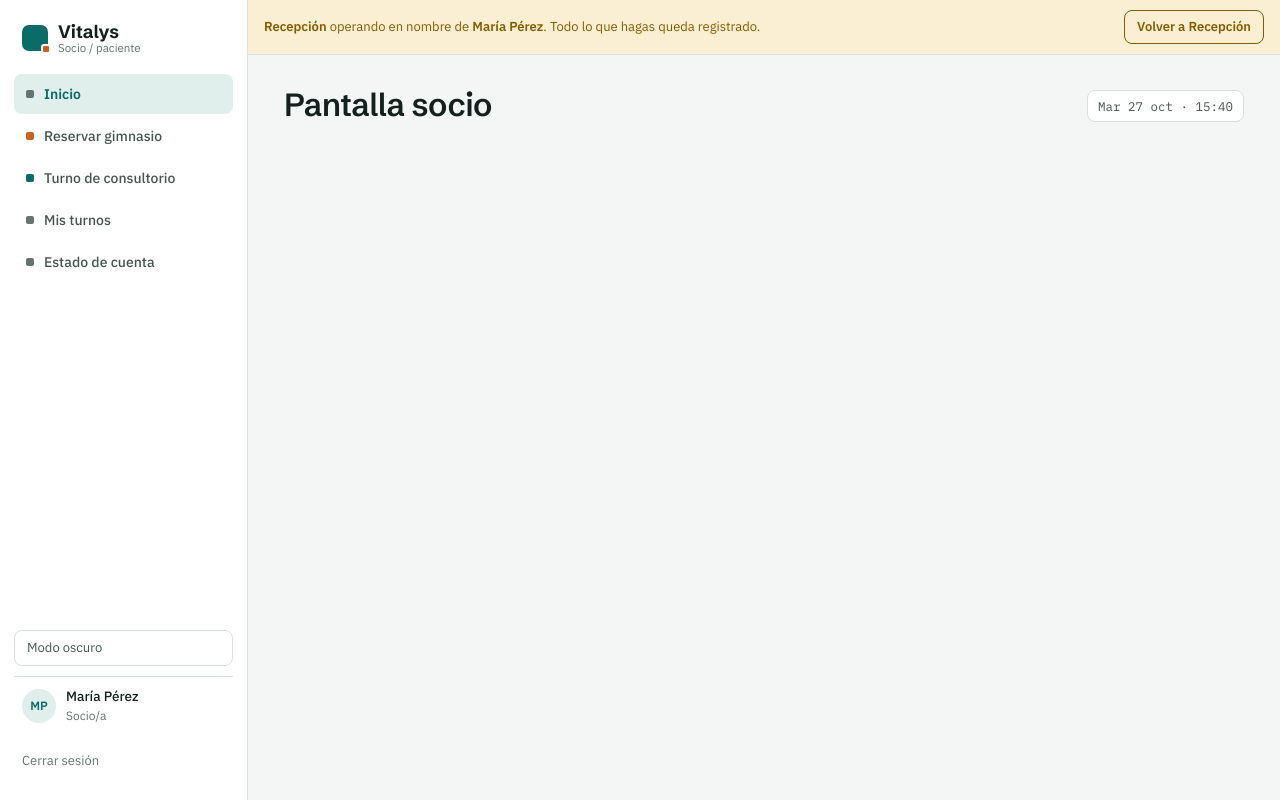
Test: ShellLayout › Operar como (RF-39) › 'Volver a Recepción' termina la sesión y abre Personas con la sesión del ADMIN
Click the button "Volver a Recepción".
click(1194, 27)  # box [1124,10,1264,44]
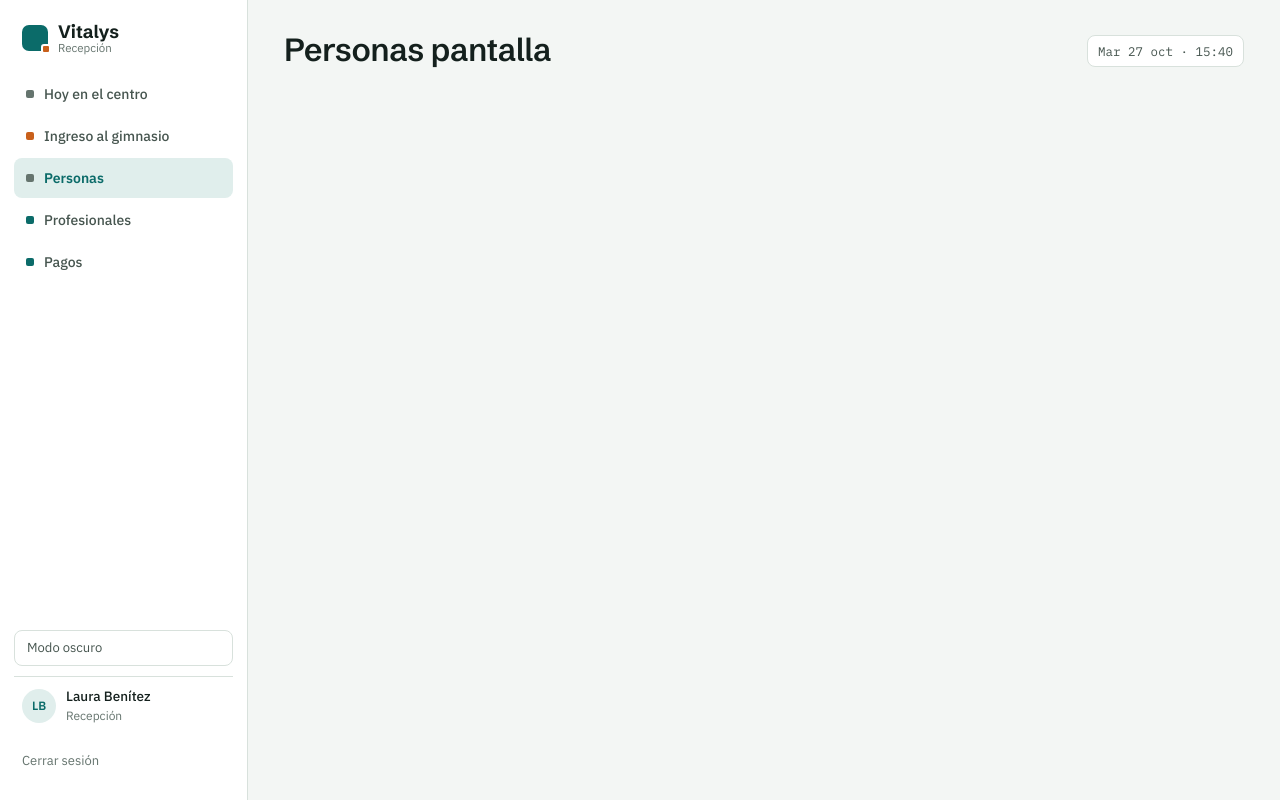
Expected: the heading "Personas pantalla" is shown, [284,32,551,67]
Expected: the text "operando en nombre de" is gone
Expected: the text "Laura Benítez" is shown, [66,687,150,705]
